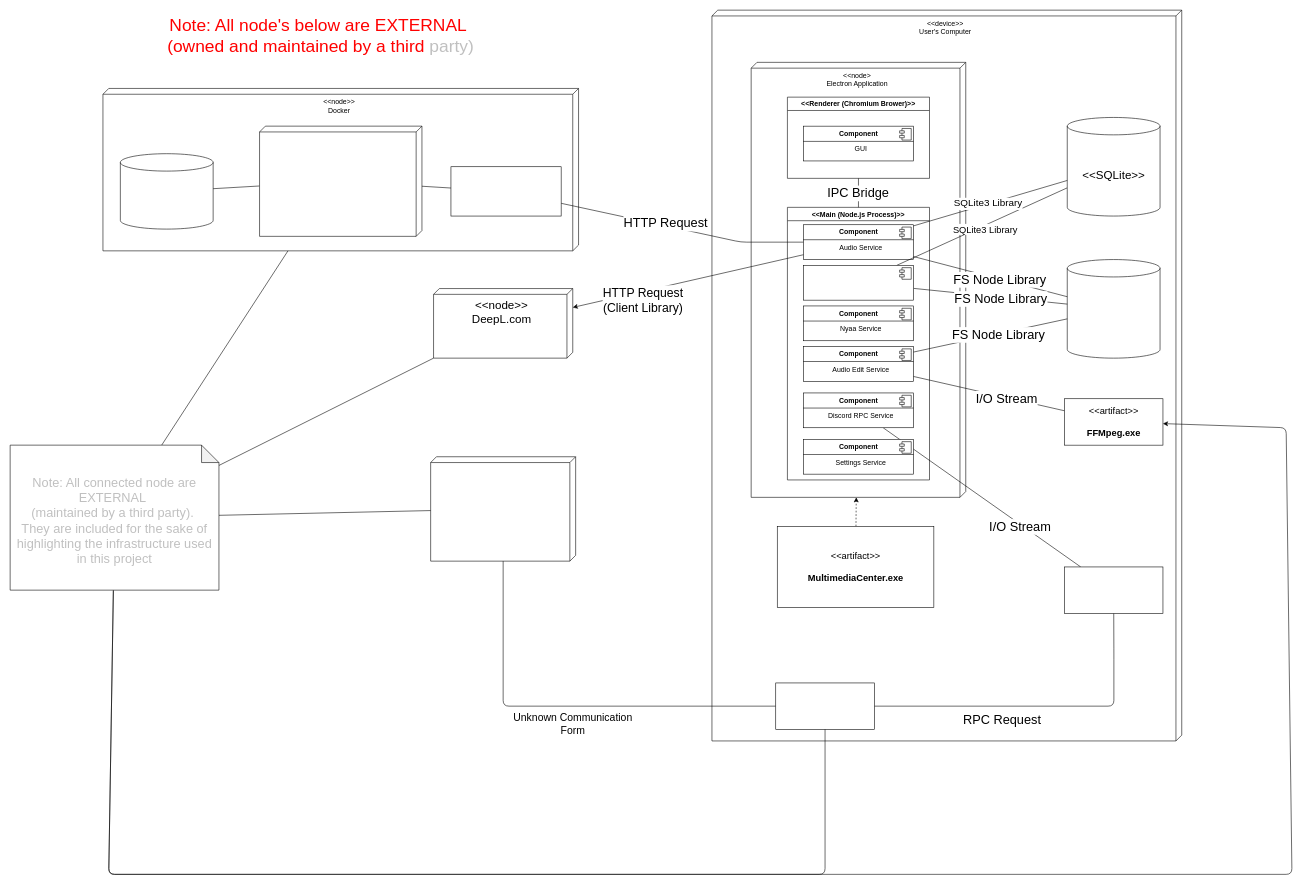
Image size: 1307x889. Some labels were removed from this diagram. The centre of each missing label's shape, as x and y in pixels:
"<<artifact>> discord.exe" belongs at pixel 824 705.
"<<artifact>> discord_rpc_cli.exe" belongs at pixel 1113 589.
"<<artifact>> Website (LrcLib.net)" belongs at pixel 505 191.
"<<node> Axum Server" belongs at pixel 340 181.
"<<node>> Discord Server" belongs at pixel 503 508.
"<<OS File System>>" belongs at pixel 1113 308.
"<<SQLite3 DB>>" belongs at pixel 166 191.
"Component Comic Service" belongs at pixel 858 282.
